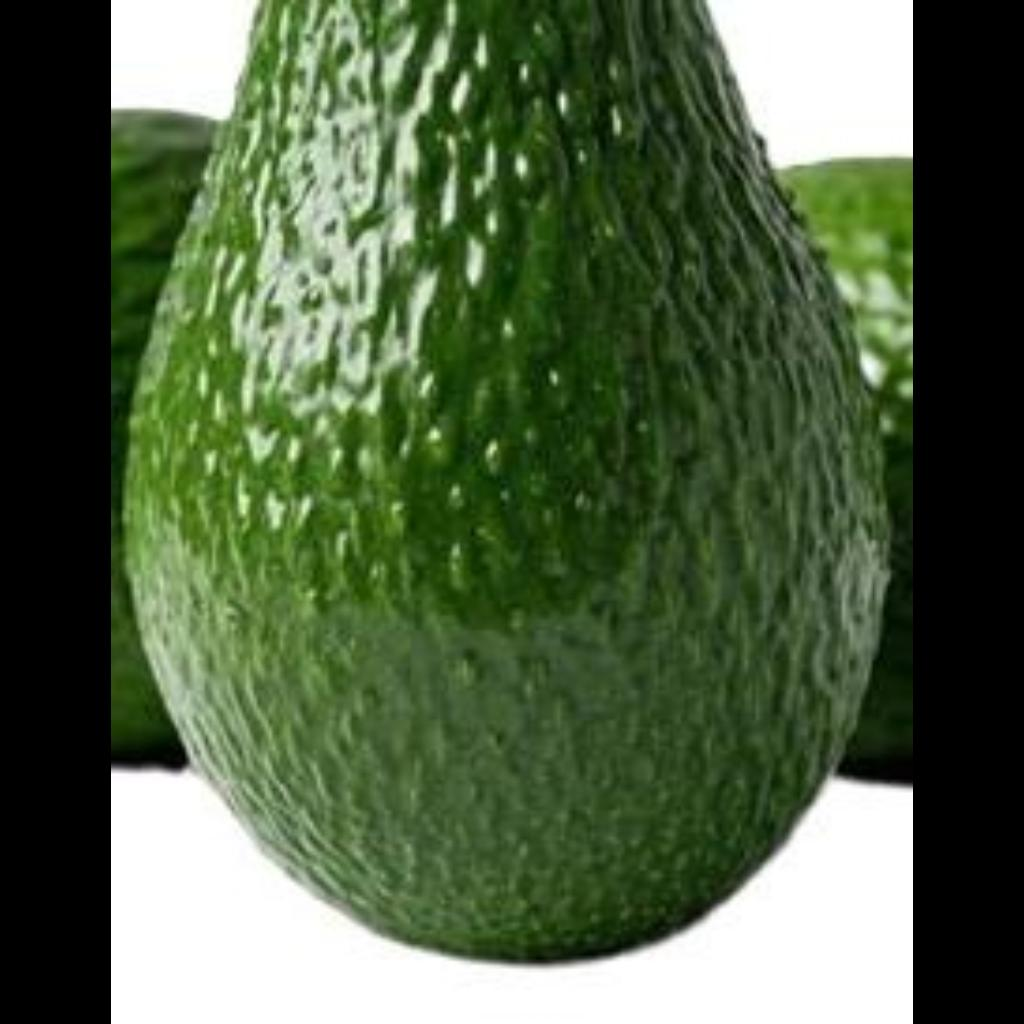fruto_sano: (148, 2, 879, 962)
